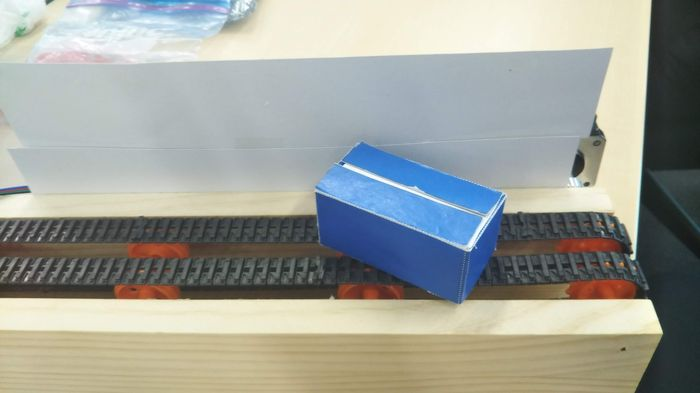box3: (309, 138, 508, 307)
